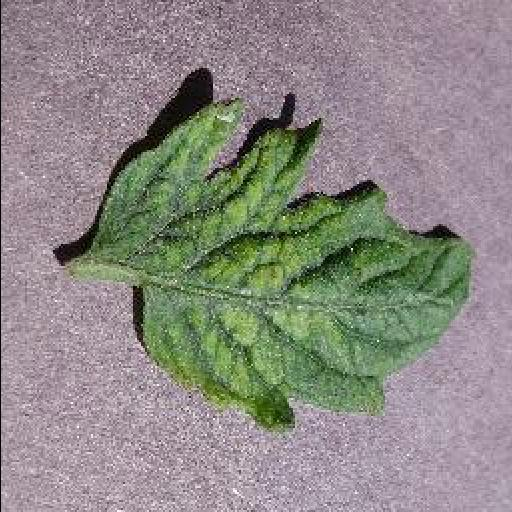disease_tomato: (89, 97, 475, 435)
